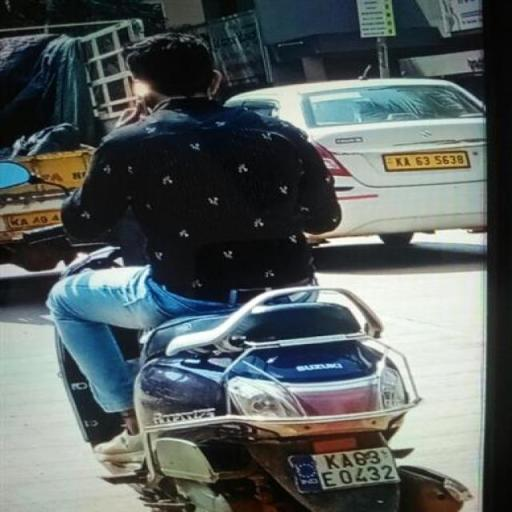numberplate: (285, 441, 400, 496)
using mobile: (117, 81, 156, 125)
